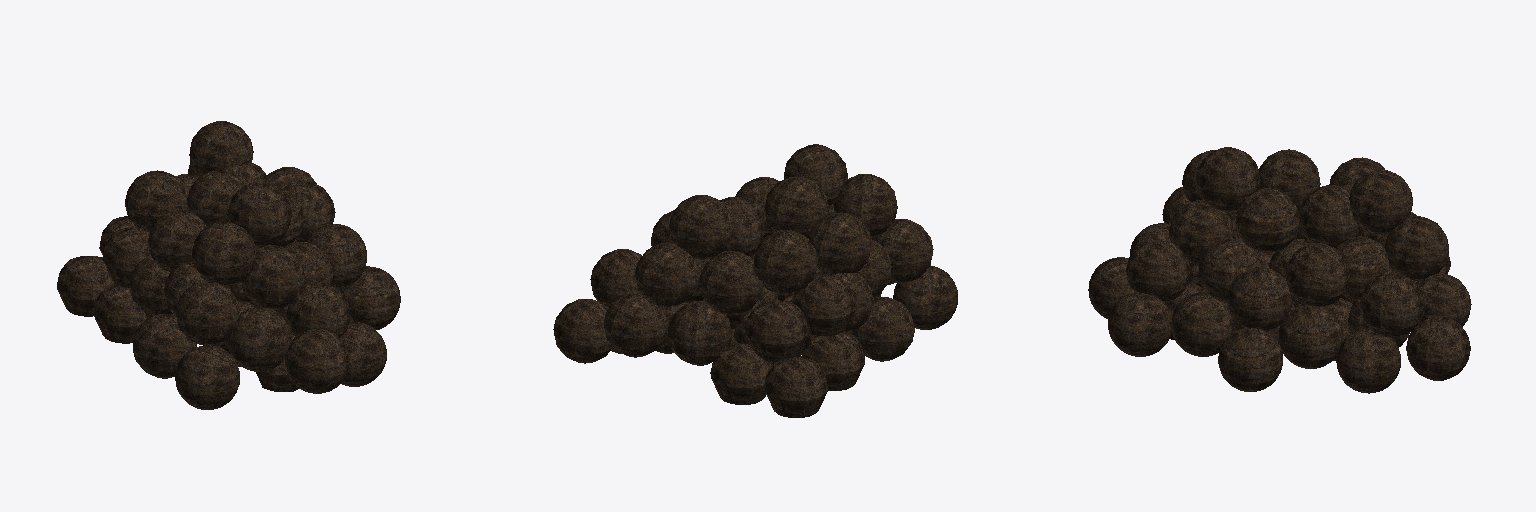
3 views of the same model, side by side, from view 1: azimuth 30°, elevation 25°; view 2: azimuth 150°, elevation 25°; view 3: azimuth 270°, elevation 25° (orthographic).
Visible parts, largest first — view 1: mesh0; view 2: mesh0; view 3: mesh0.
Part boxes in pixels (x1,y1,x2,y2): mesh0: (57,121,400,409); mesh0: (553,144,957,417); mesh0: (1088,147,1471,393).
Bounding box in the file's own units: 14.88 × 10.3 × 18.82.
1 materials, 1 textured.